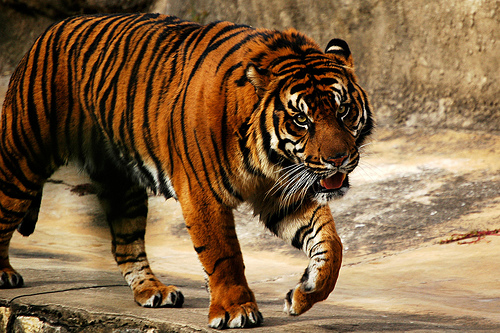Tigre: (20, 12, 383, 322)
